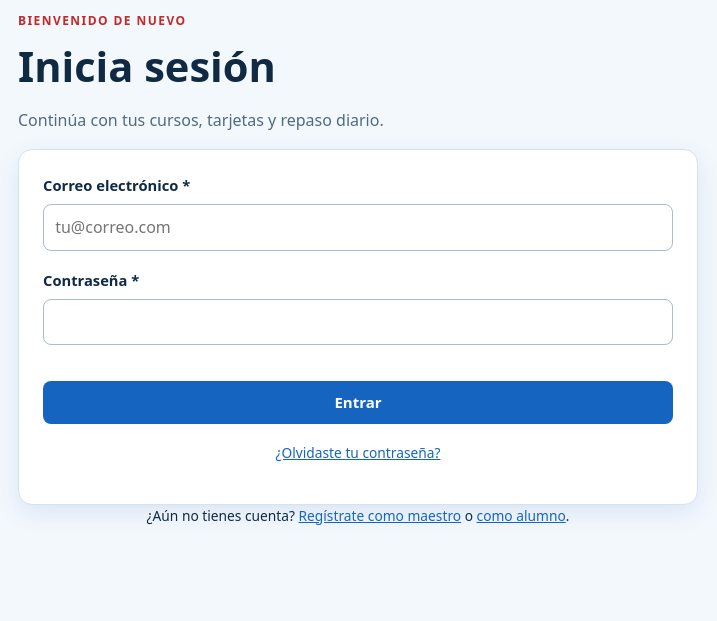
Test case: Formulario de login › no ofrece reenviar correos: cualquier error se muestra como mensaje simple
Step 1. Type "alumno@ejemplo.com" into the field labelled "Correo electrónico *" → (358, 228), box [43,204,673,251]
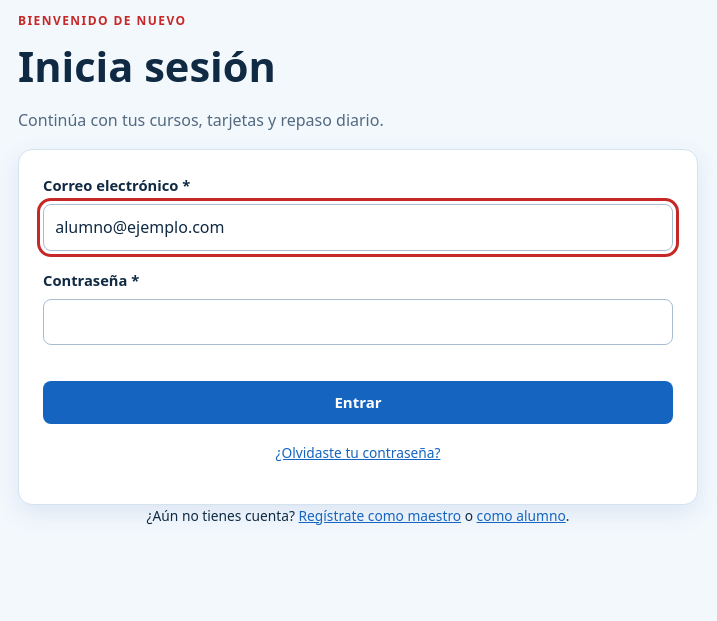
Step 2. Type "password123" into the password field labelled "Contraseña *" → (358, 322), box [43,299,673,345]
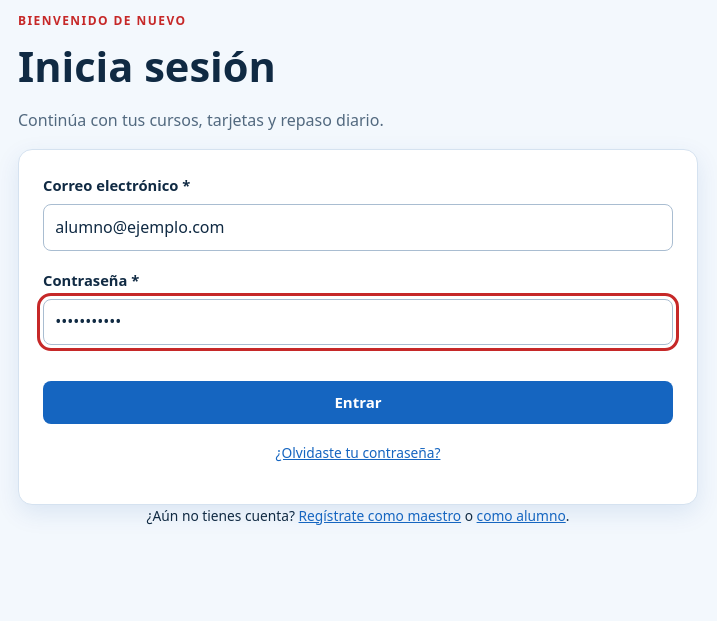
Step 3. Click the button "Entrar" → click(358, 402), box [43,381,673,424]
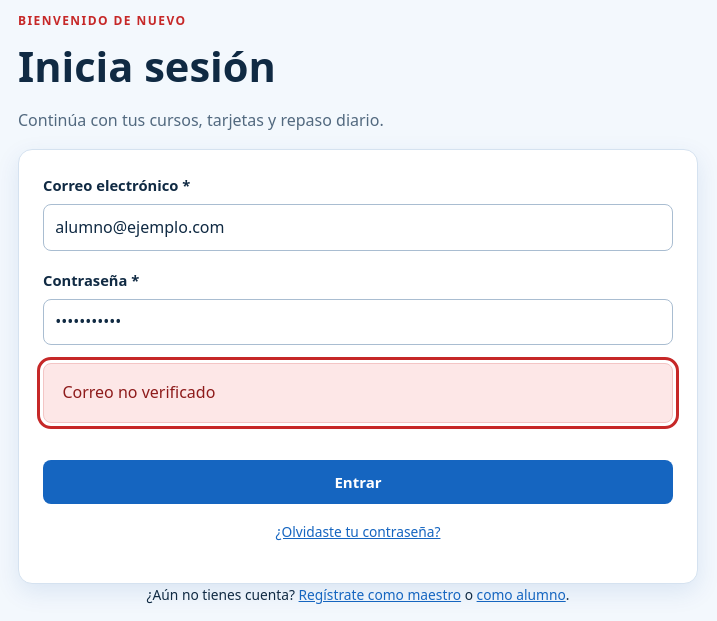
Check: the message reads "Correo no verificado", box [62,381,215,403]
